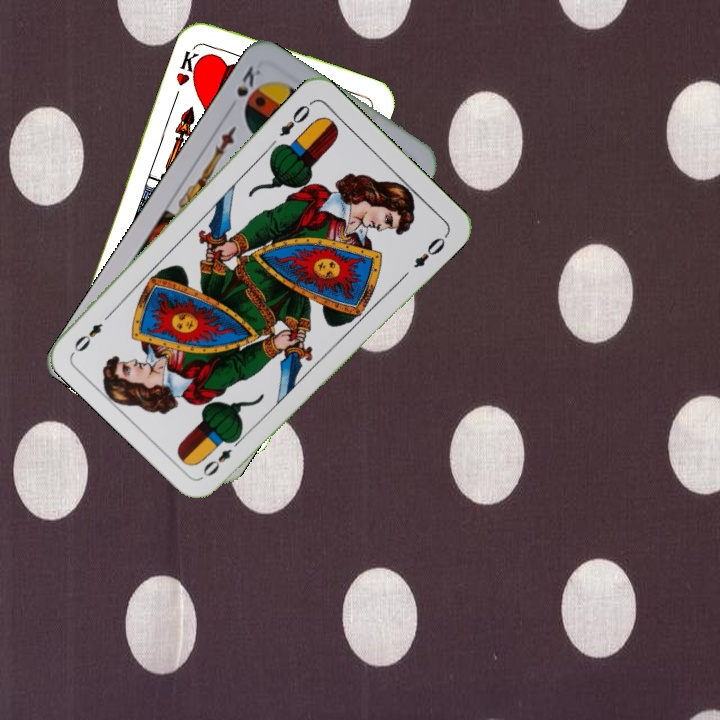EO: (198, 432, 245, 480), (275, 97, 315, 140)
HK: (172, 40, 207, 89)
SK: (232, 61, 264, 100)
